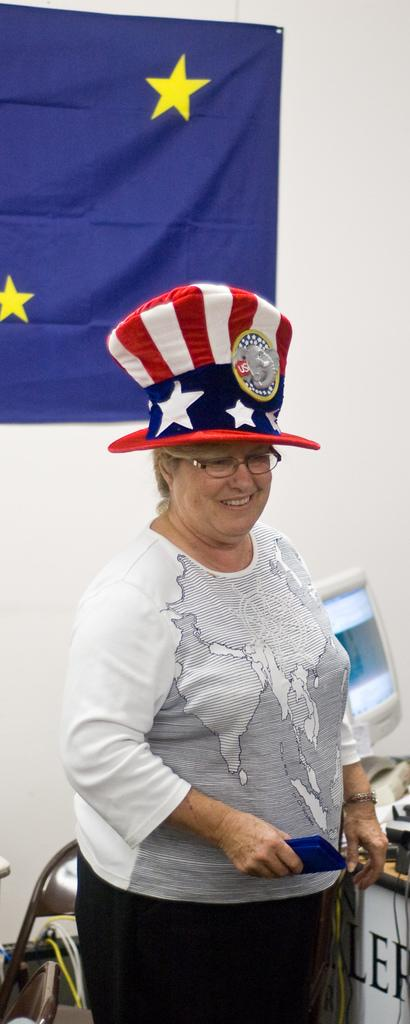Hat: (106, 282, 318, 454)
